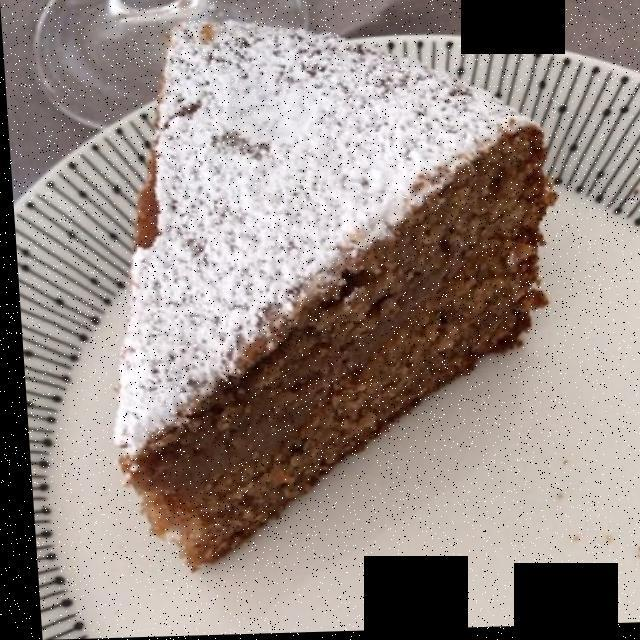tart: (110, 30, 535, 560)
